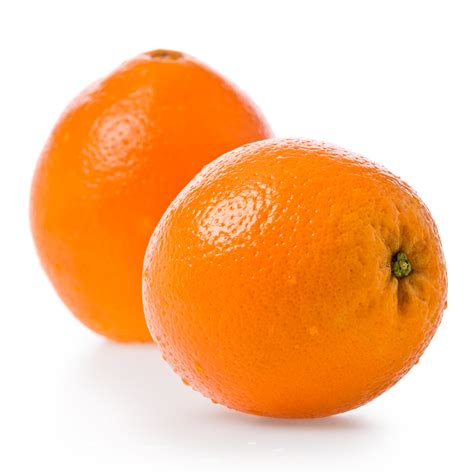orange: (136, 134, 449, 422), (30, 42, 246, 358)
